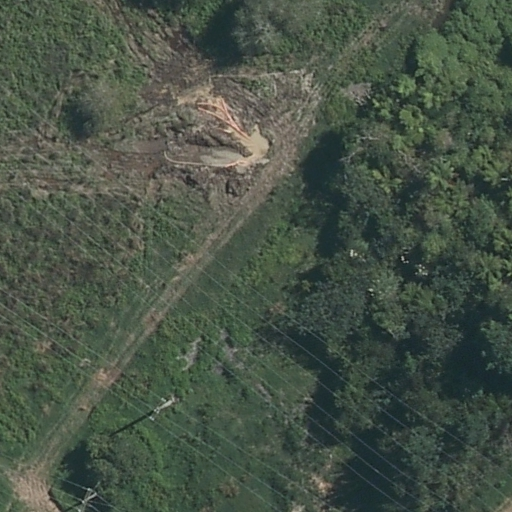DT: (152, 399, 173, 415), (77, 490, 95, 507)
